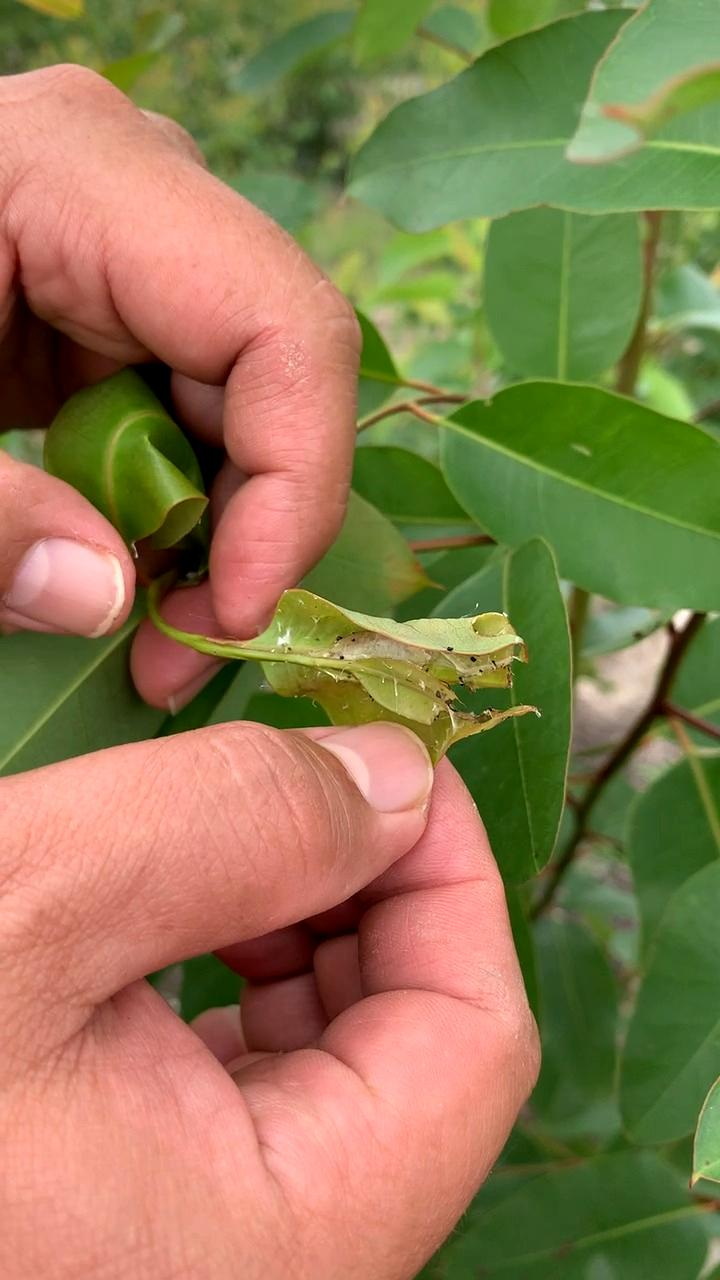Leaf Roller - Leaf: (246, 585, 545, 775)
